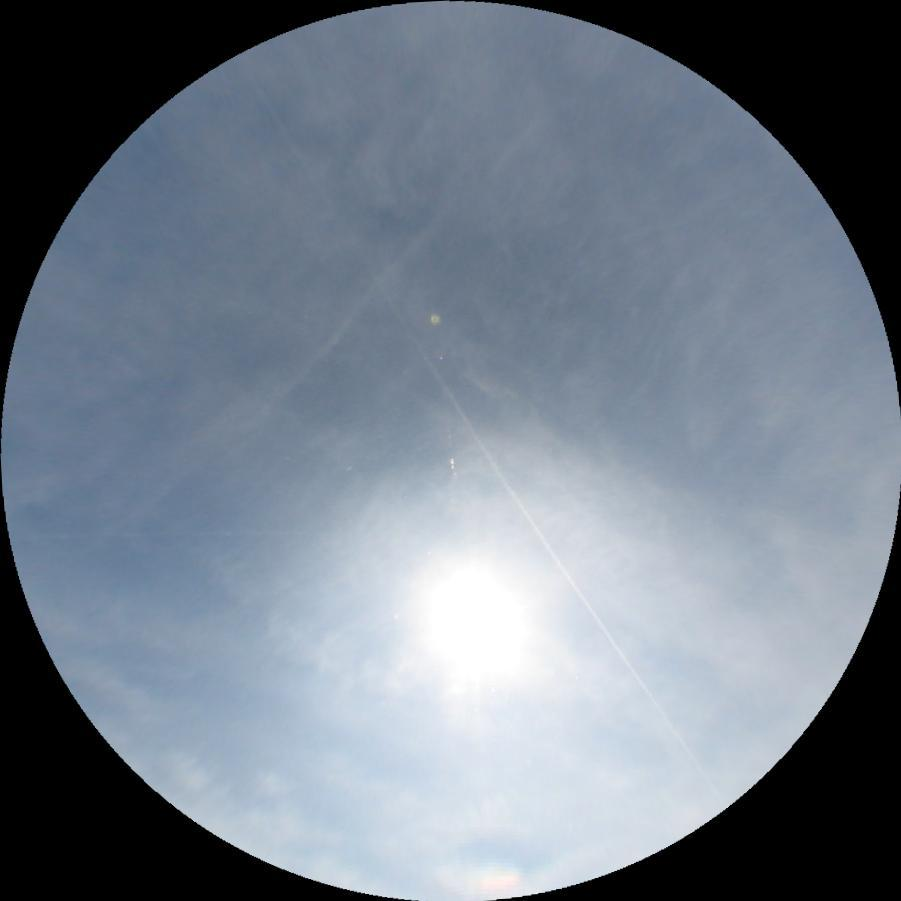contrail old: (230, 52, 726, 813)
contrail veryold: (81, 216, 451, 557)
sun: (402, 549, 548, 698)
